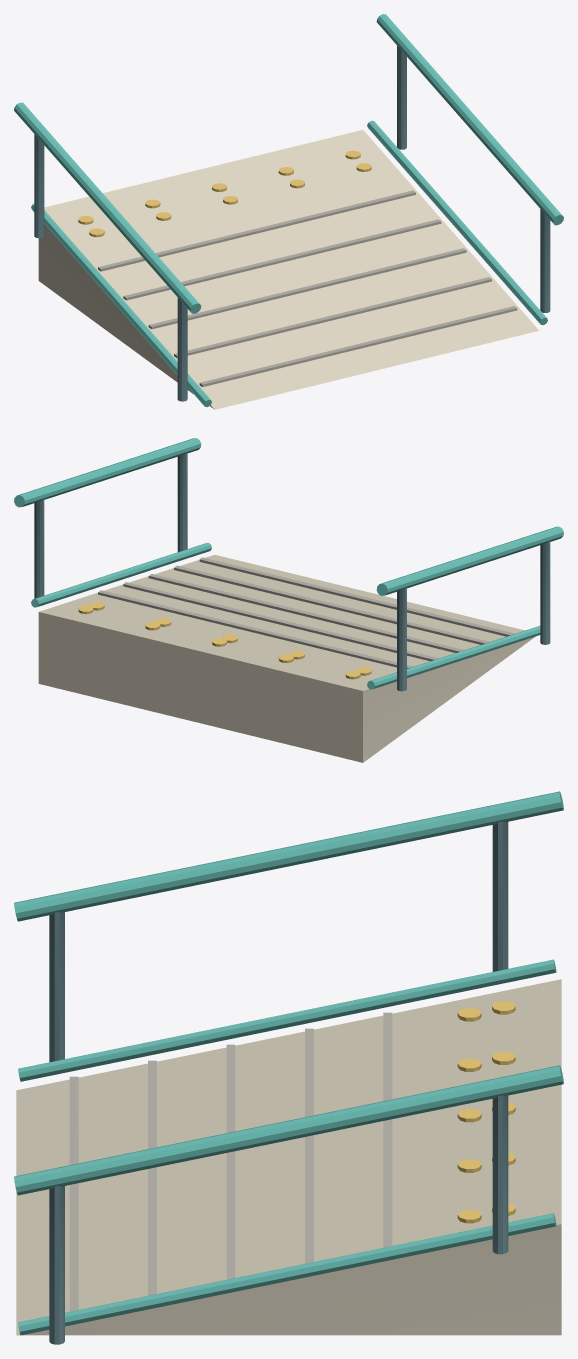
Rendered from access-ramp.glb.
The picture shows the model from 3 angles, top to bottom: view 1: azimuth 30°, elevation 25°; view 2: azimuth 150°, elevation 25°; view 3: azimuth 270°, elevation 25°; orthographic projection. The views are drawn at different scales.
Visible parts, largest first — view 1: ramp, ramp handrail, non slip tread, ramp railing post, tactile stud; view 2: ramp, non slip tread, ramp handrail, ramp railing post, tactile stud; view 3: ramp, ramp handrail, non slip tread, ramp railing post, tactile stud.
Boxes of the visible parts, box(x1,y1,x2,y2) form: ramp: box(38, 130, 538, 409); ramp handrail: box(14, 14, 563, 407); non slip tread: box(98, 190, 517, 386); ramp railing post: box(34, 46, 550, 401); tactile stud: box(78, 150, 371, 237); ramp: box(38, 555, 535, 762); non slip tread: box(98, 557, 514, 668); ramp handrail: box(14, 438, 563, 689); ramp railing post: box(34, 452, 550, 691); tactile stud: box(78, 601, 371, 679); ramp: box(16, 979, 561, 1335); ramp handrail: box(14, 791, 563, 1335); non slip tread: box(69, 1012, 392, 1311); ramp railing post: box(49, 821, 508, 1344); tactile stud: box(457, 1001, 515, 1223).
Size of the model in its own units: 1.96 by 0.9183 by 1.61.
